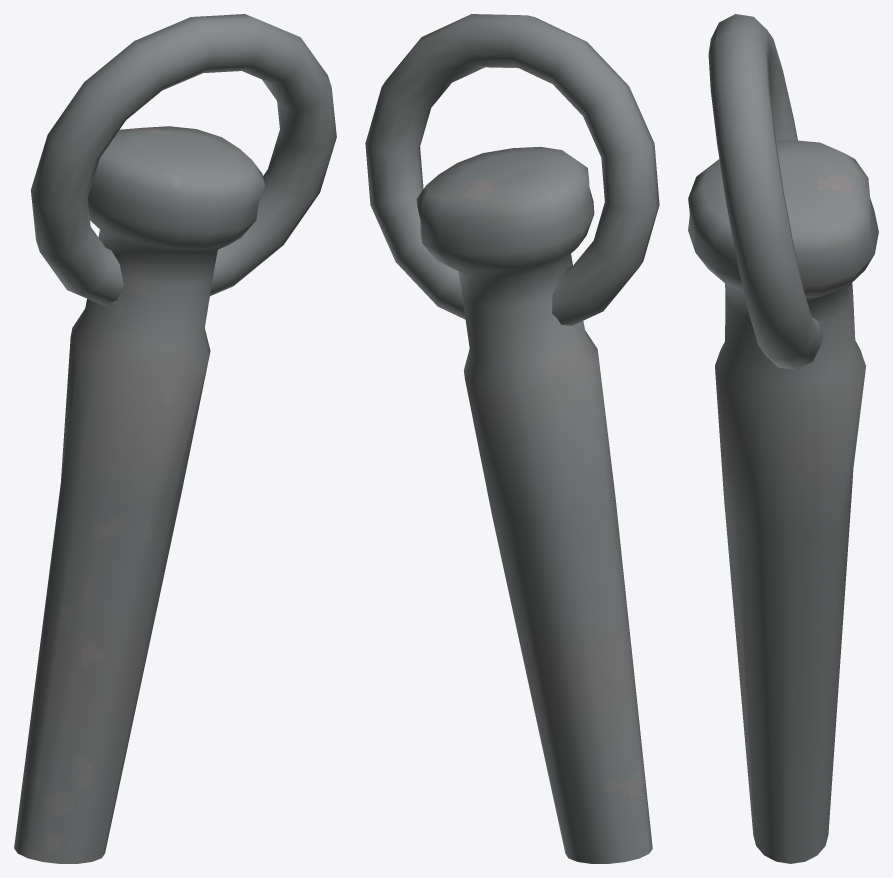
File: chain_peg.fbx
3 views of the same model, side by side, from view 1: azimuth 30°, elevation 25°; view 2: azimuth 150°, elevation 25°; view 3: azimuth 270°, elevation 25° (orthographic). The views are drawn at different scales.
Visible parts, largest first — view 1: Wood_Low.001; view 2: Wood_Low.001; view 3: Wood_Low.001.
Boxes of the visible parts, bbox=[...] form: Wood_Low.001: bbox=[14, 14, 336, 863]; Wood_Low.001: bbox=[365, 14, 659, 863]; Wood_Low.001: bbox=[688, 14, 878, 863].
Bounding box in the file's own units: 11.88 × 31.01 × 6.17.
